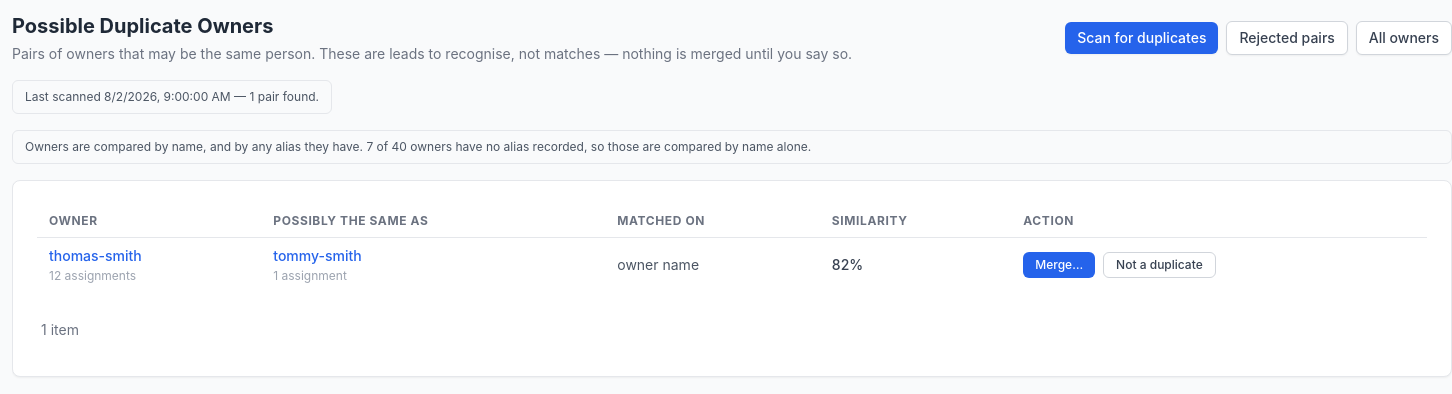
Test case: OwnerDuplicatesPage › starts a scan and says it is running
Expected: the link "thomas-smith" is shown, [49, 247, 142, 264]
Click the button "Scan for duplicates" at (1142, 38), box [1065, 22, 1218, 54]
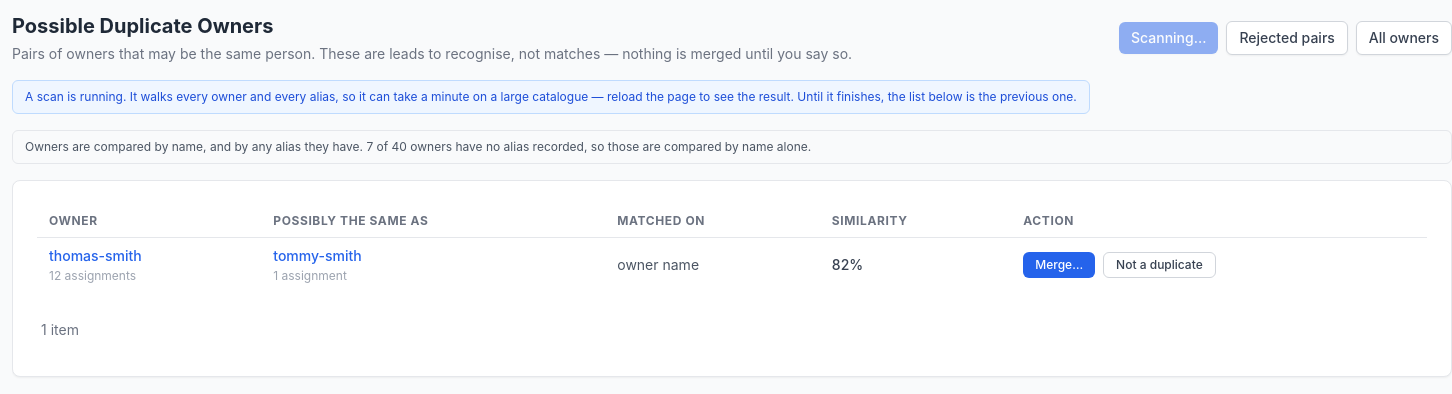
Now the text "scan is running" is shown, box [25, 89, 1077, 104]
